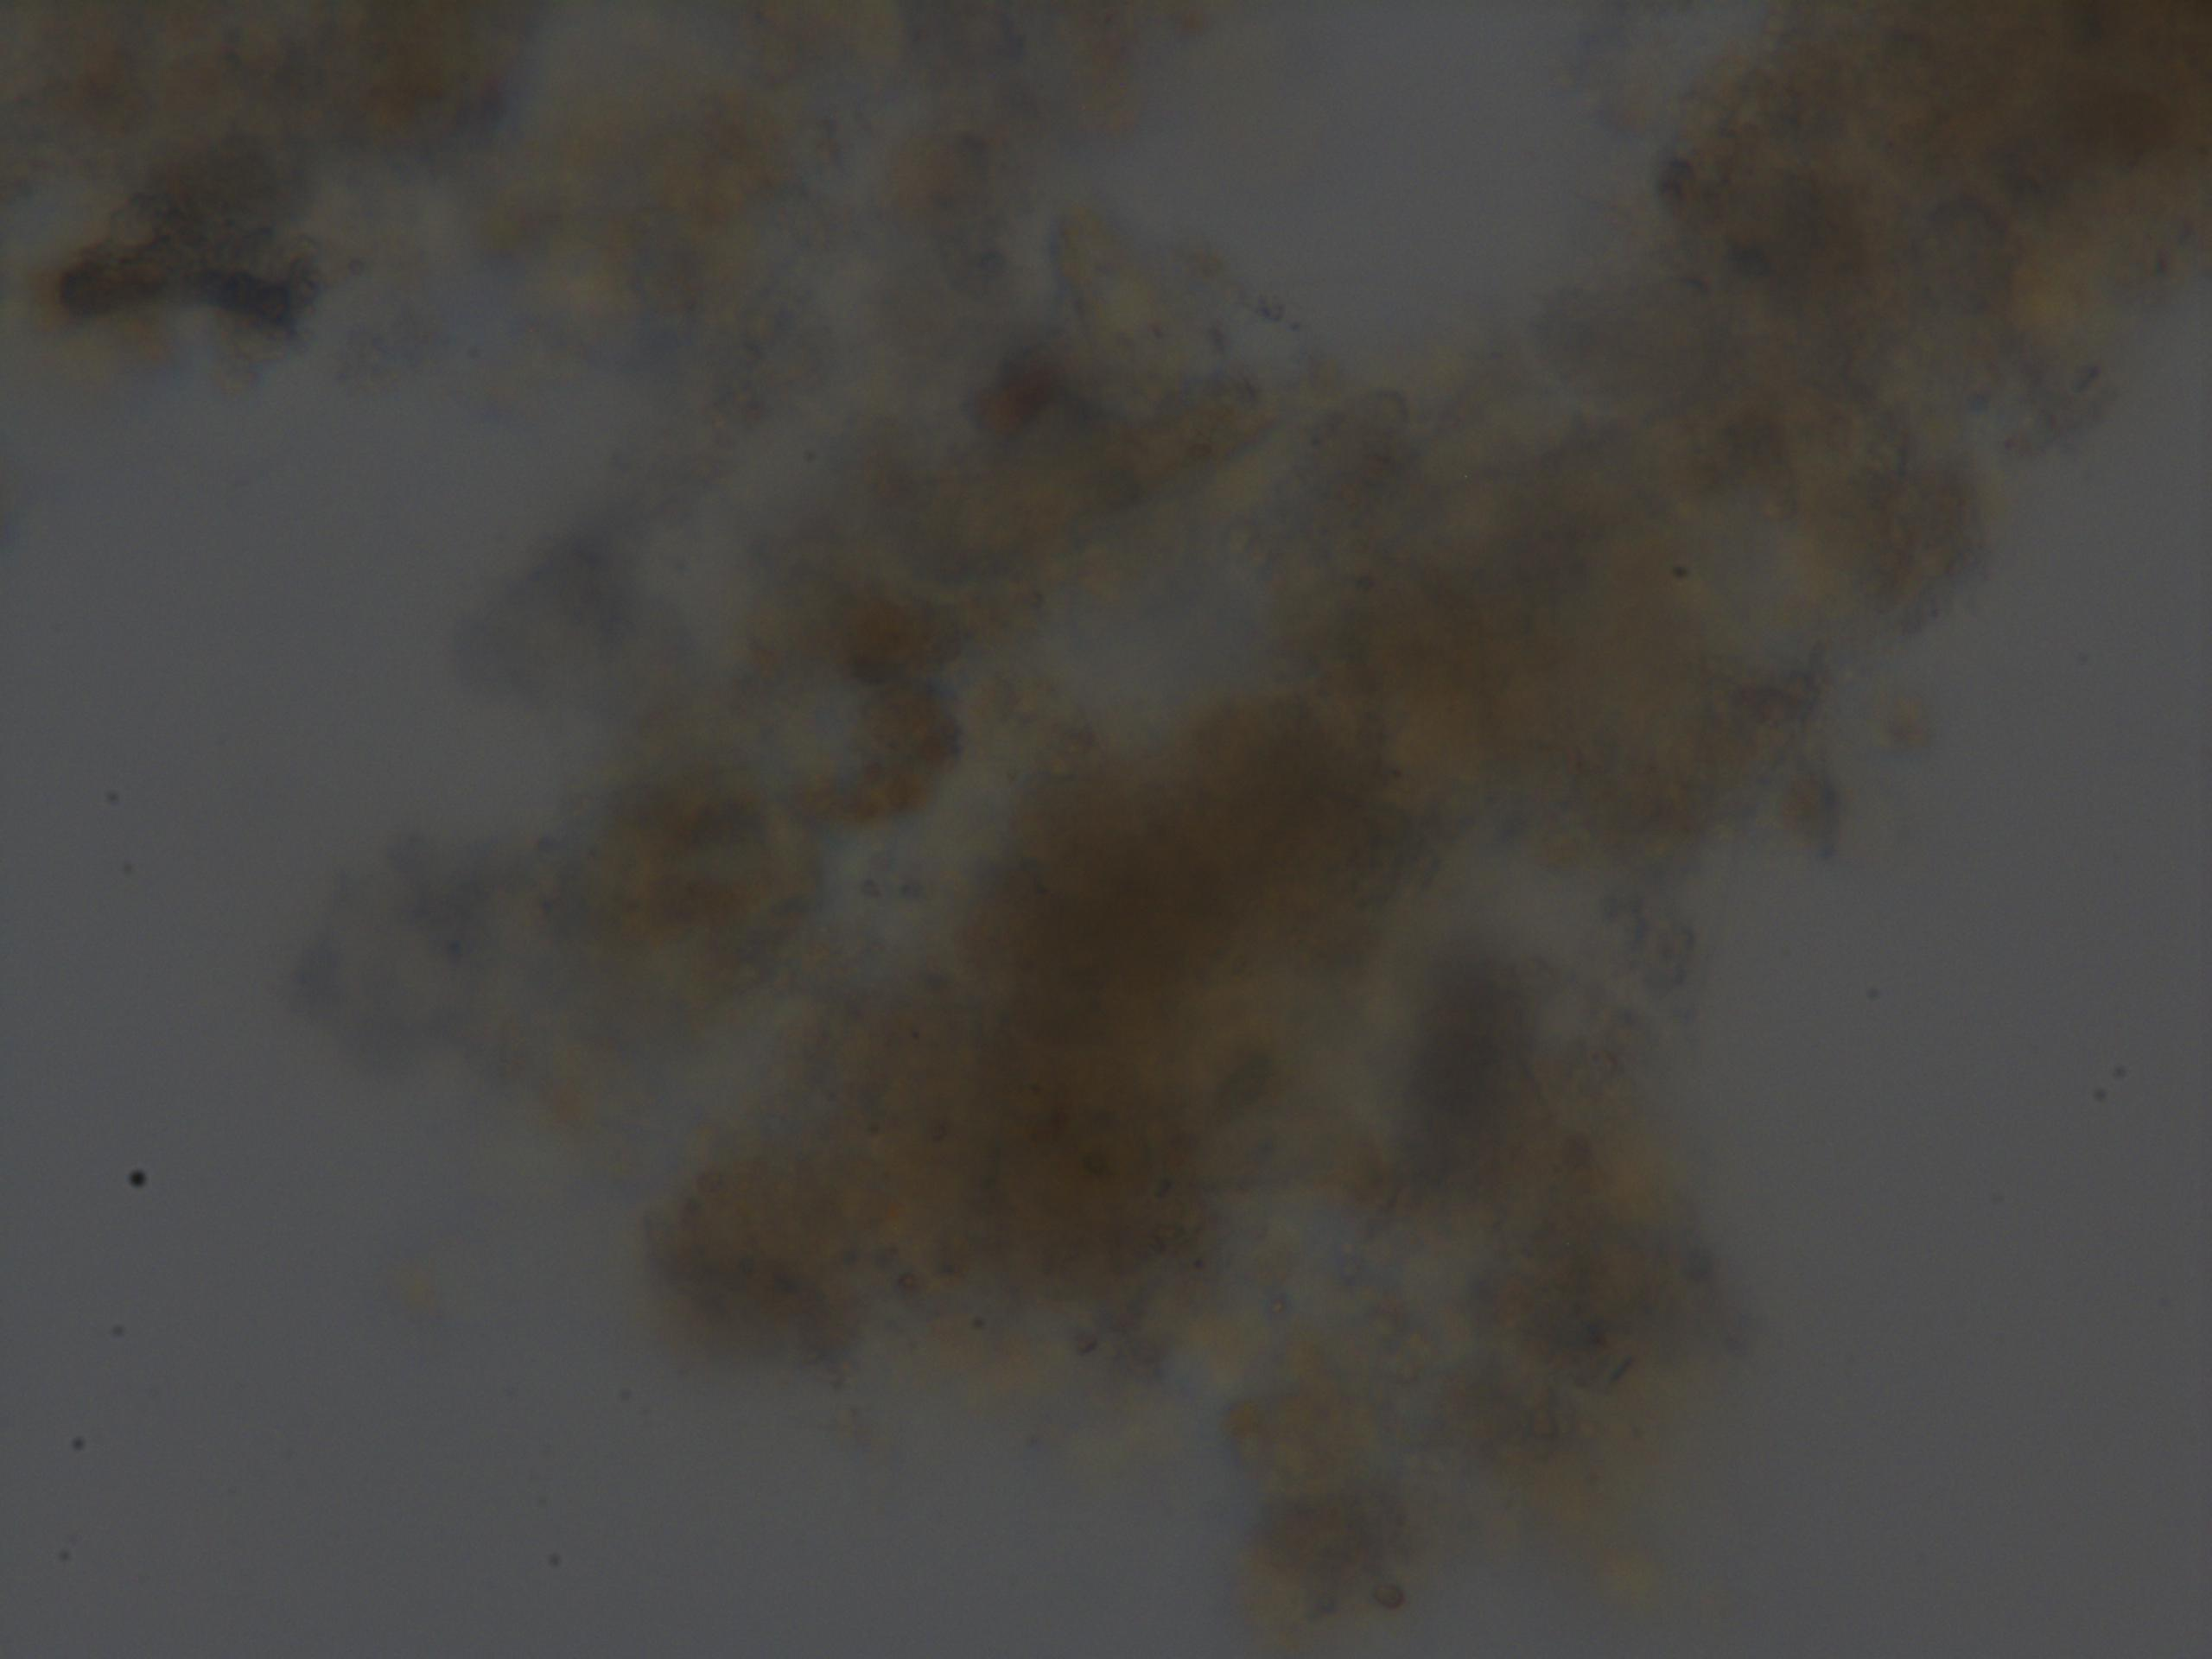open_floc: (1, 1, 2212, 1659)
